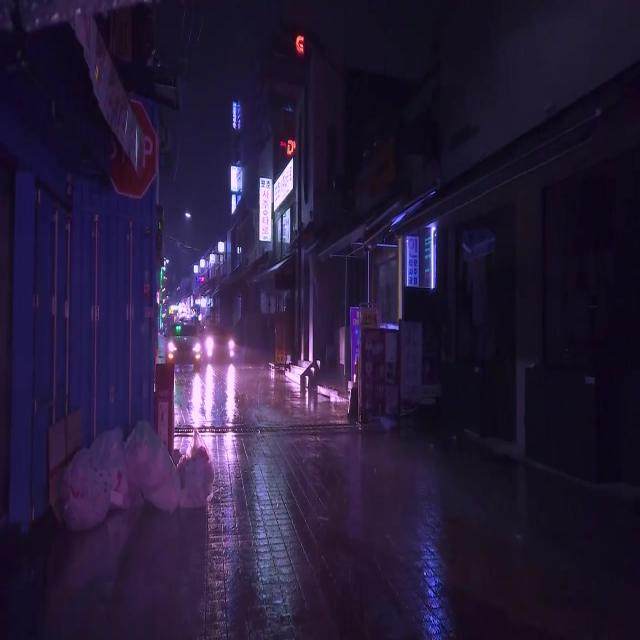Car: (165, 319, 201, 366)
